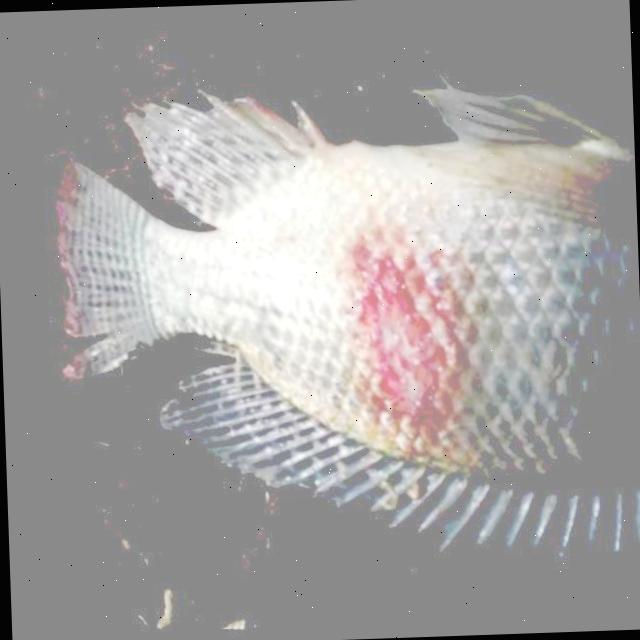Tilapia Lake Virus -TiLV-: (60, 85, 640, 544), (57, 87, 624, 545)
